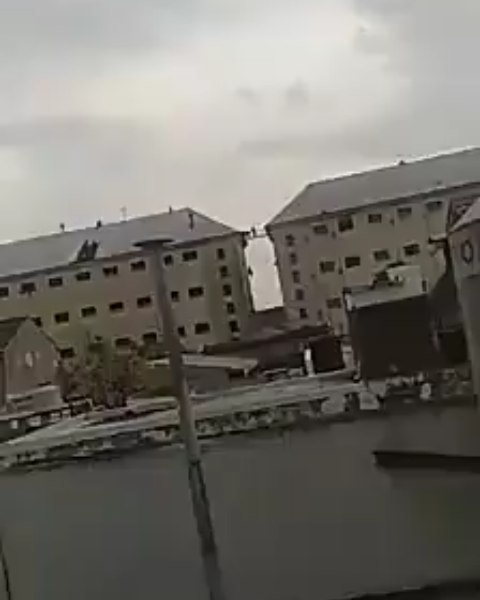building: (1, 208, 242, 377), (272, 170, 480, 315)
sky: (3, 1, 480, 207)
